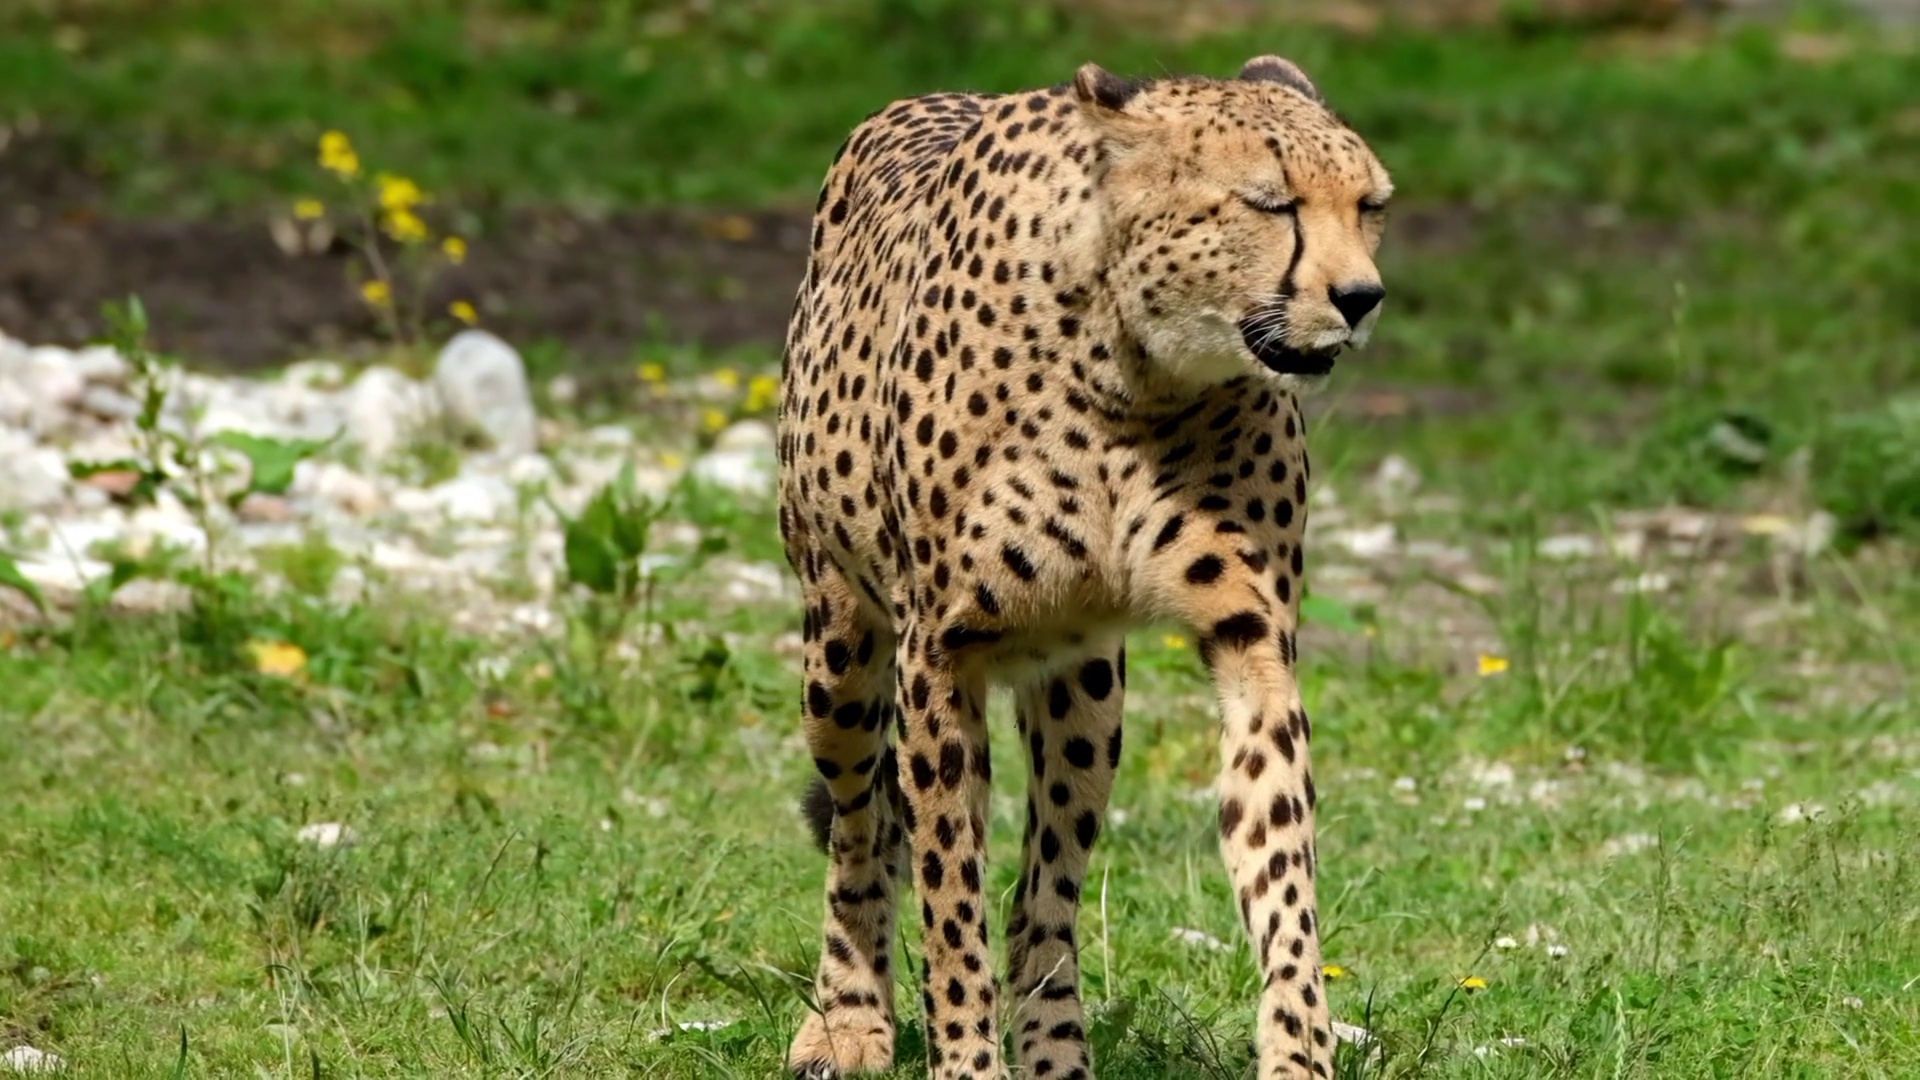Cheetah: (777, 50, 1402, 1080)
